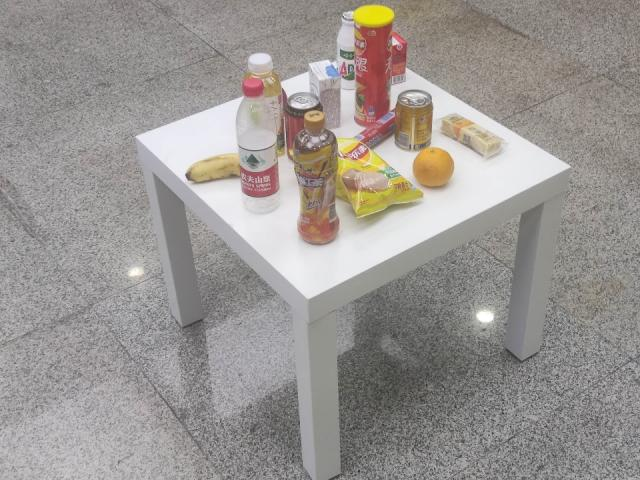Canned_drinks: (284, 90, 320, 165), (394, 88, 434, 149)
bottle: (234, 77, 281, 216)
cylinder: (351, 3, 396, 127)
drink_box: (306, 60, 344, 129), (389, 32, 411, 87)
